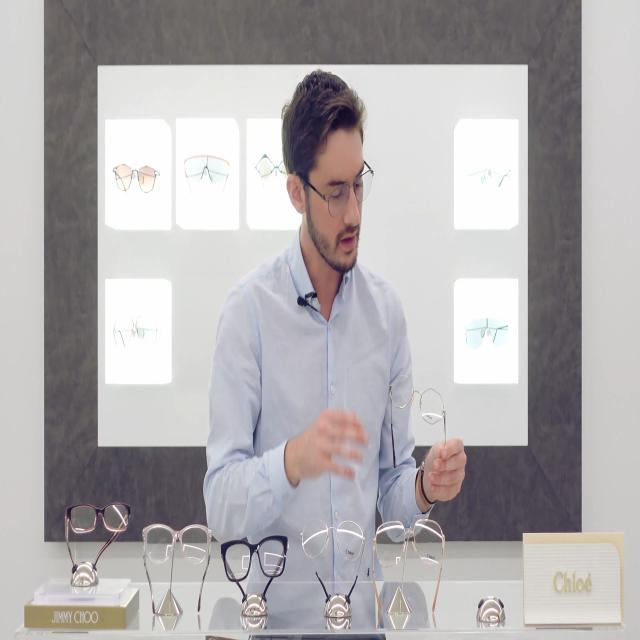dress: (203, 224, 431, 579)
glasses: (139, 520, 213, 567), (376, 518, 443, 568), (388, 370, 445, 427), (223, 532, 285, 581), (300, 517, 365, 562), (64, 499, 132, 538), (328, 168, 373, 216), (183, 153, 231, 188), (112, 162, 156, 194)
